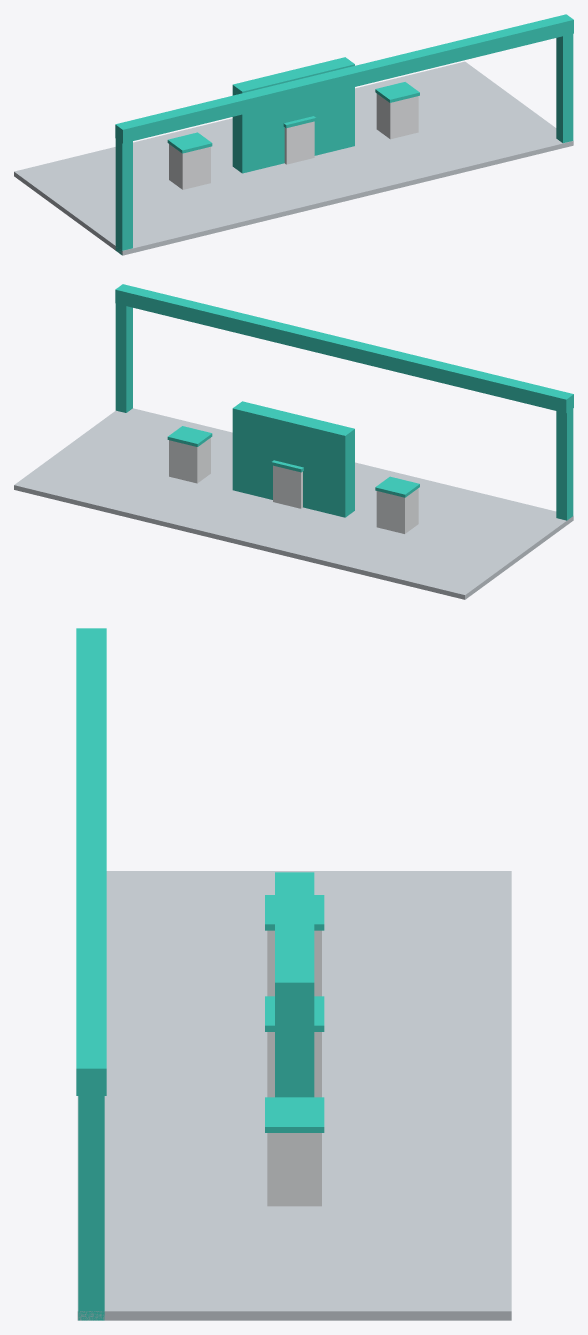
3 views of the same model, one above another, from view 1: azimuth 30°, elevation 25°; view 2: azimuth 150°, elevation 25°; view 3: azimuth 270°, elevation 25° (orthographic). The views are drawn at different scales.
Visible parts, largest first — view 1: Exhibition Booth Concept; view 2: Exhibition Booth Concept; view 3: Exhibition Booth Concept.
Part boxes in pixels (box(x1,y1,x2,y2)): Exhibition Booth Concept: box(14, 14, 573, 255); Exhibition Booth Concept: box(14, 284, 573, 599); Exhibition Booth Concept: box(76, 628, 511, 1320).
Bounding box in the file's own units: 12 × 3.2 × 5.02.
